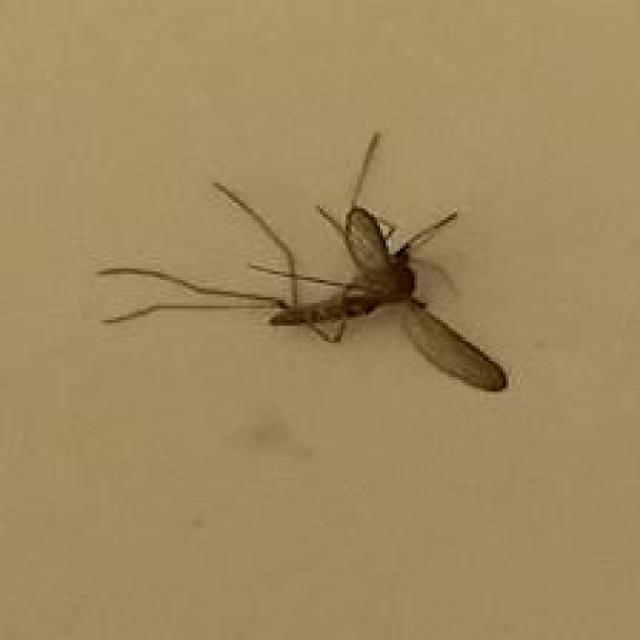Culex: (96, 129, 510, 394)
